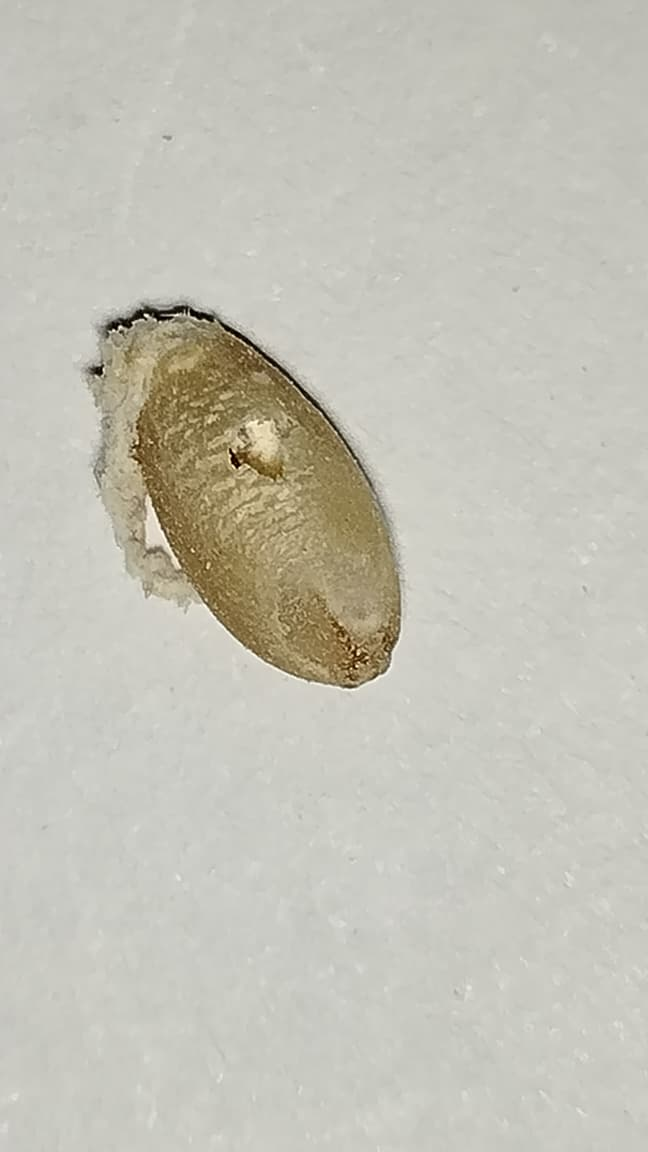damage: (76, 296, 410, 705)
insectdamage: (212, 406, 313, 495)
molddamage: (83, 299, 217, 610)
